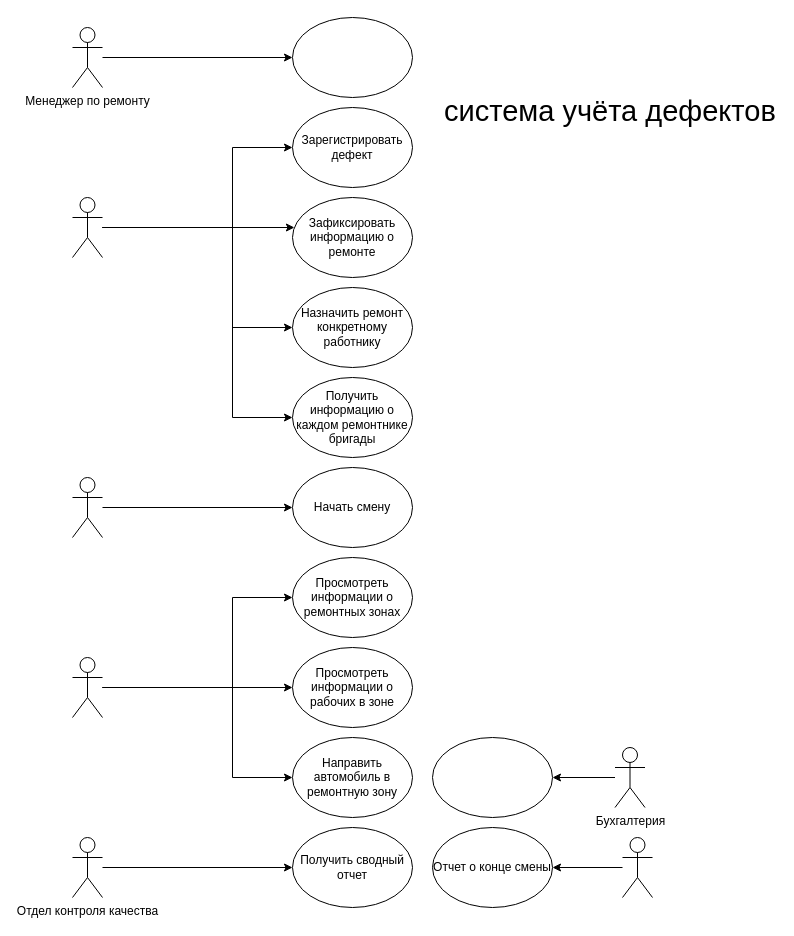
This 794x936 diagram has some shape labels left out. Each missing label, with the centre of its shape:
"Бригадир" belongs at point 87,227.
"Внесение информации про ремонтные зоны" belongs at point 352,57.
"Диспетчер" belongs at point 87,687.
"Начальник цеха" belongs at point 637,867.
"Получить ежемесячный отчет" belongs at point 492,777.
"Рабочий" belongs at point 87,507.
